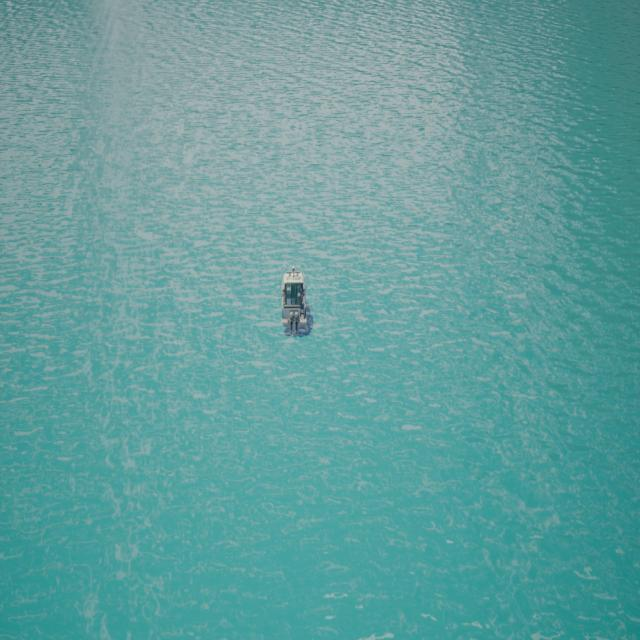ship: (279, 266, 312, 338)
